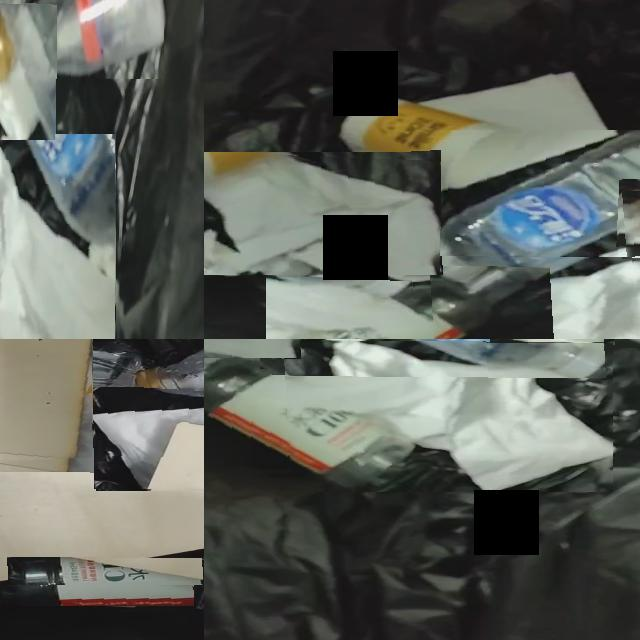bottle: (402, 132, 640, 290), (204, 357, 404, 474), (294, 275, 548, 339), (10, 0, 164, 79), (2, 558, 194, 606)
carton: (0, 430, 204, 578), (0, 339, 92, 461)
dixie_cup: (340, 97, 525, 190)
paper: (287, 342, 613, 492), (204, 155, 441, 275), (0, 148, 115, 339), (423, 72, 616, 178), (431, 261, 640, 339), (94, 408, 204, 489), (0, 4, 56, 140)
